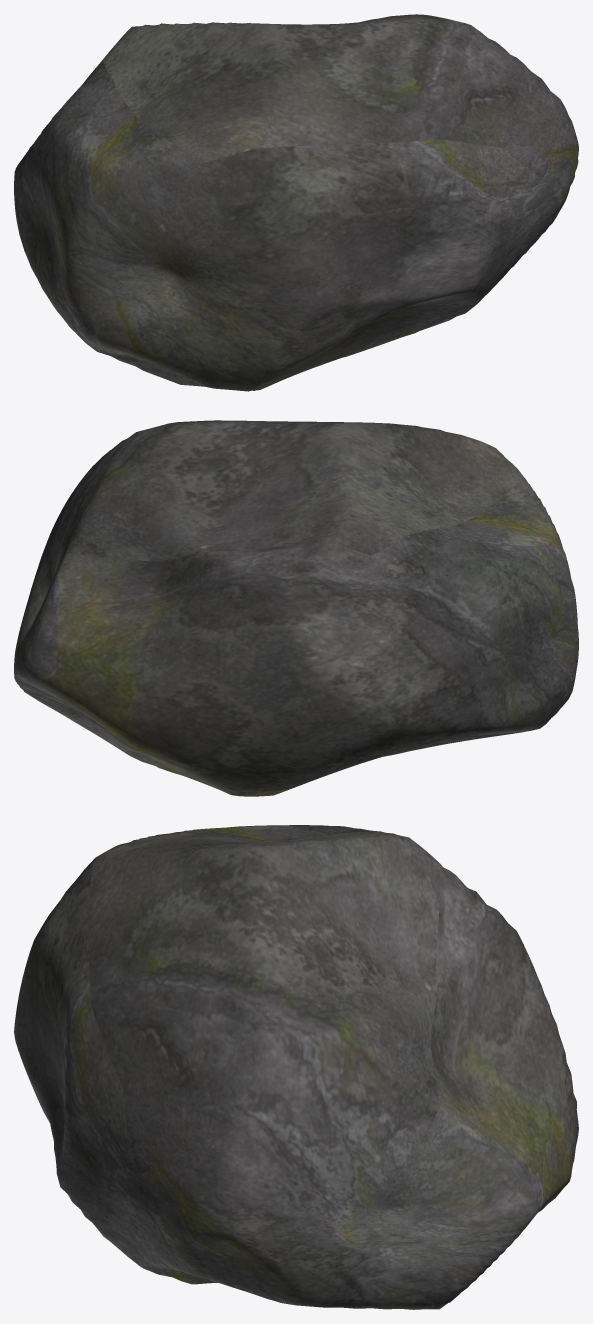
File: RockVariant2.fbx
3 views of the same model, one above another, from view 1: azimuth 30°, elevation 25°; view 2: azimuth 150°, elevation 25°; view 3: azimuth 270°, elevation 25° (orthographic). The views are drawn at different scales.
Parts seen in each view (by area): view 1: Cube.001; view 2: Cube.001; view 3: Cube.001.
Boxes of the visible parts, bbox=[...] form: Cube.001: bbox=[14, 14, 578, 391]; Cube.001: bbox=[14, 420, 578, 796]; Cube.001: bbox=[14, 825, 578, 1309].
Bounding box in the file's own units: 244 × 151 × 195.
Materials: 1 (1 with a texture image).
